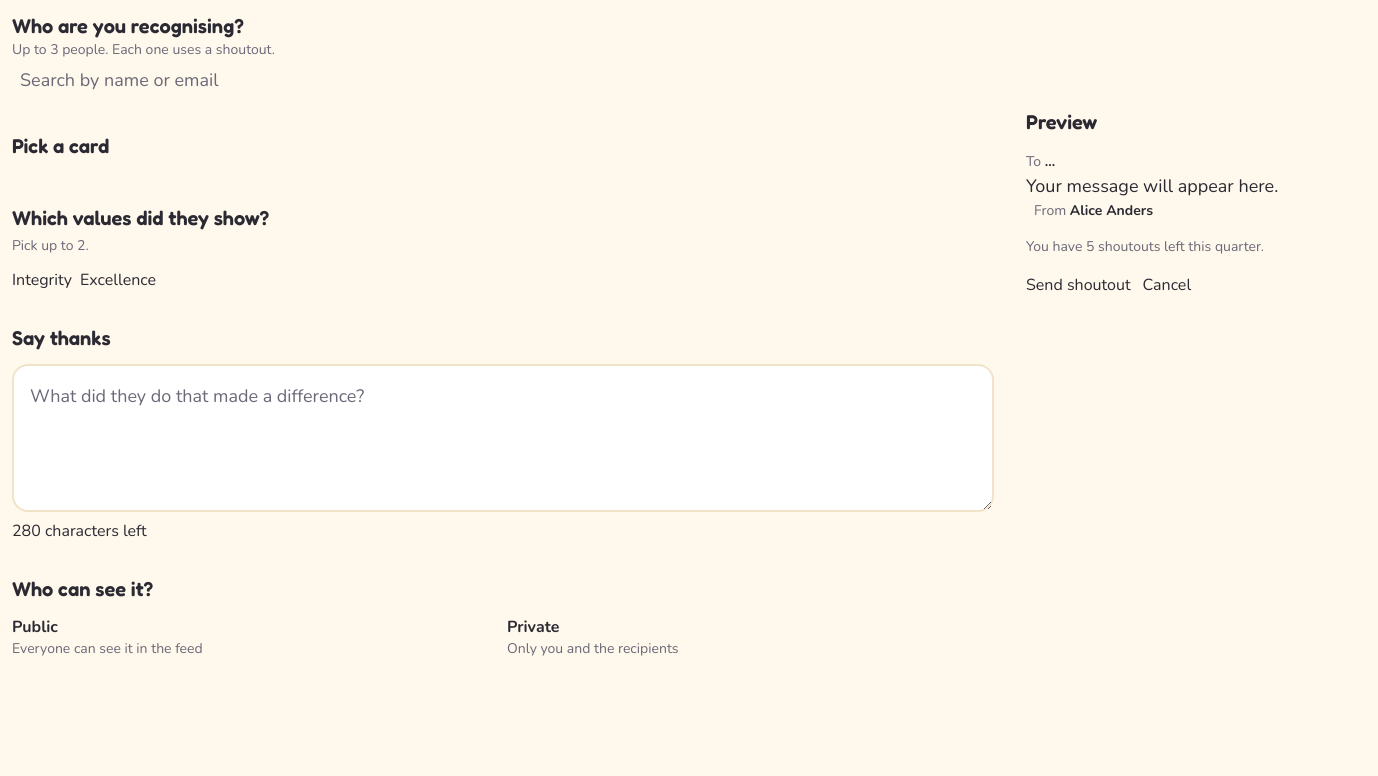
Test: SendShoutoutForm › shows errors returned by the action
Click the button "Send shoutout" at (1078, 285), box top-left (1026, 273), bottom-right (1130, 297)
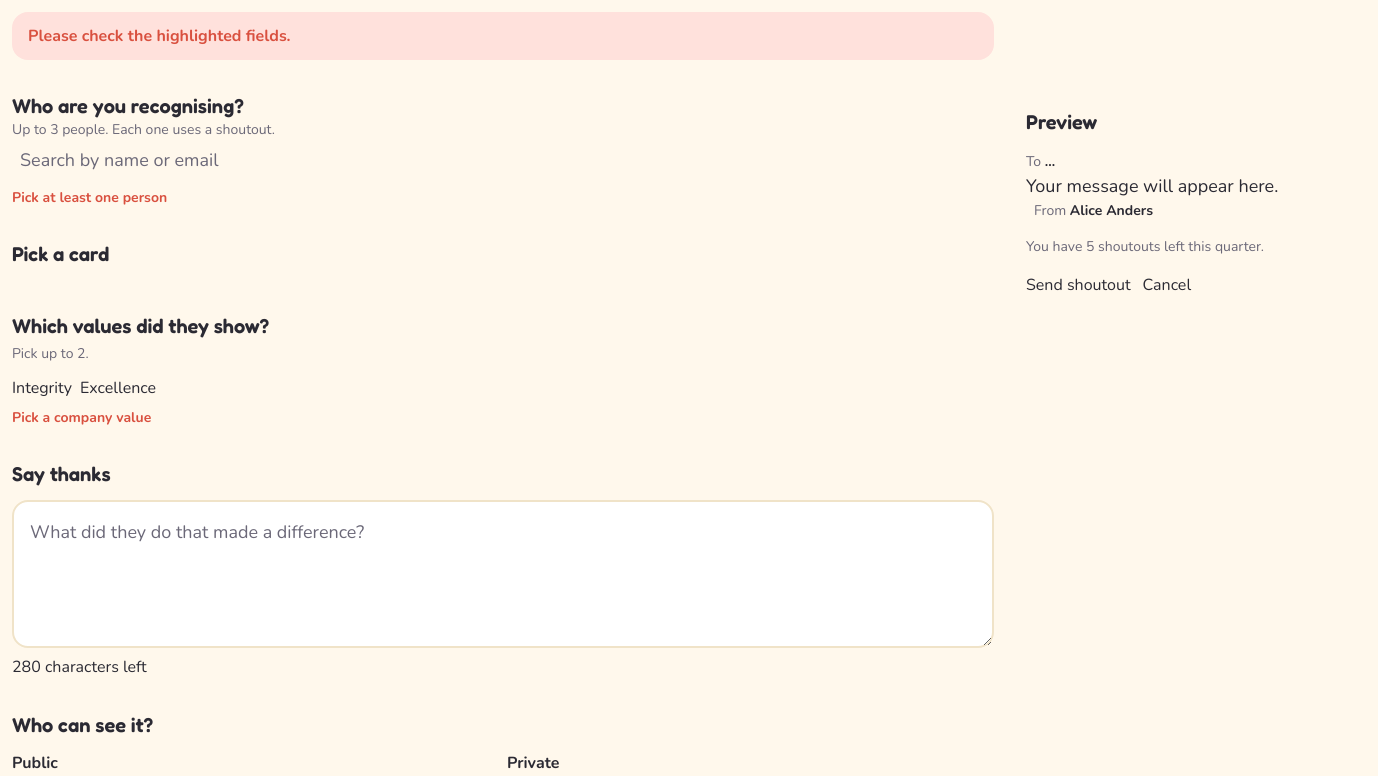
Result: the message reads "Please check the highlighted fields." at top-left (28, 25), bottom-right (291, 47)
Result: the text "Pick at least one person" is shown at top-left (12, 188), bottom-right (167, 207)
Result: the text "Pick a company value" is shown at top-left (12, 408), bottom-right (151, 427)
